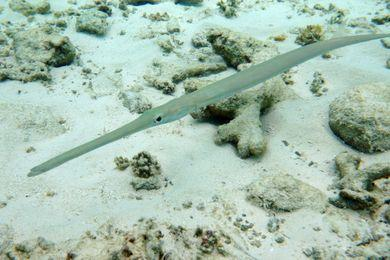Fistularia commersonii: (25, 26, 389, 178)
